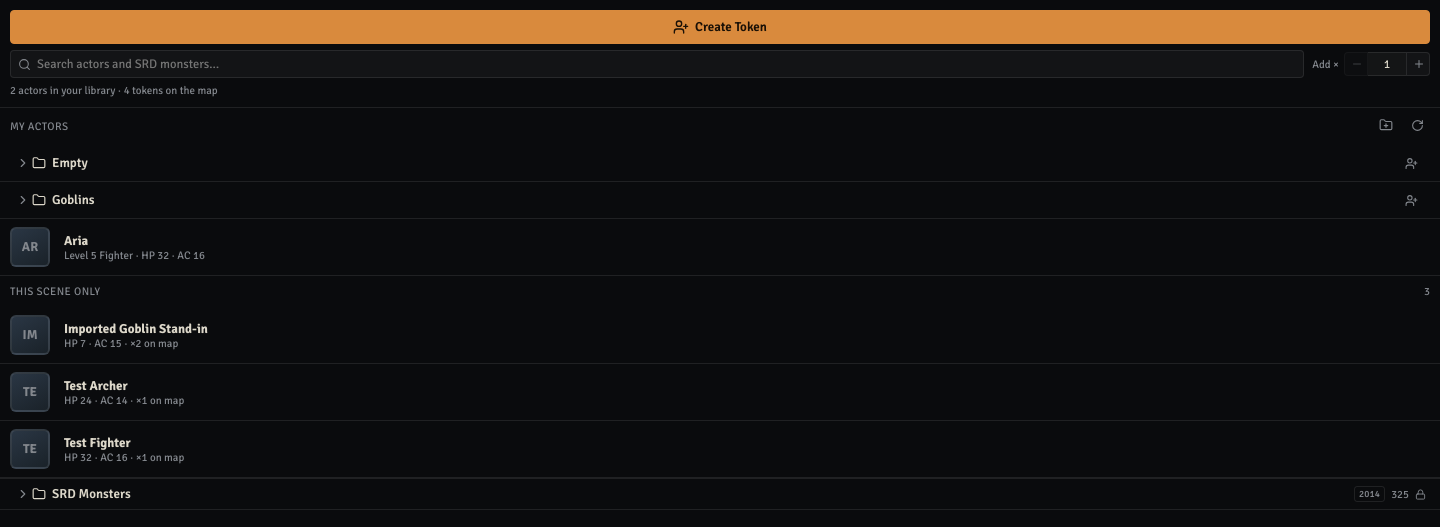
Test case: the search › narrows every group at once, opening the folders with matches and hiding the rest
Expected: the text "Goblin Boss" is not shown
Type "boss" into the search field labelled "Search actors" at (657, 64), box [10,50,1304,78]
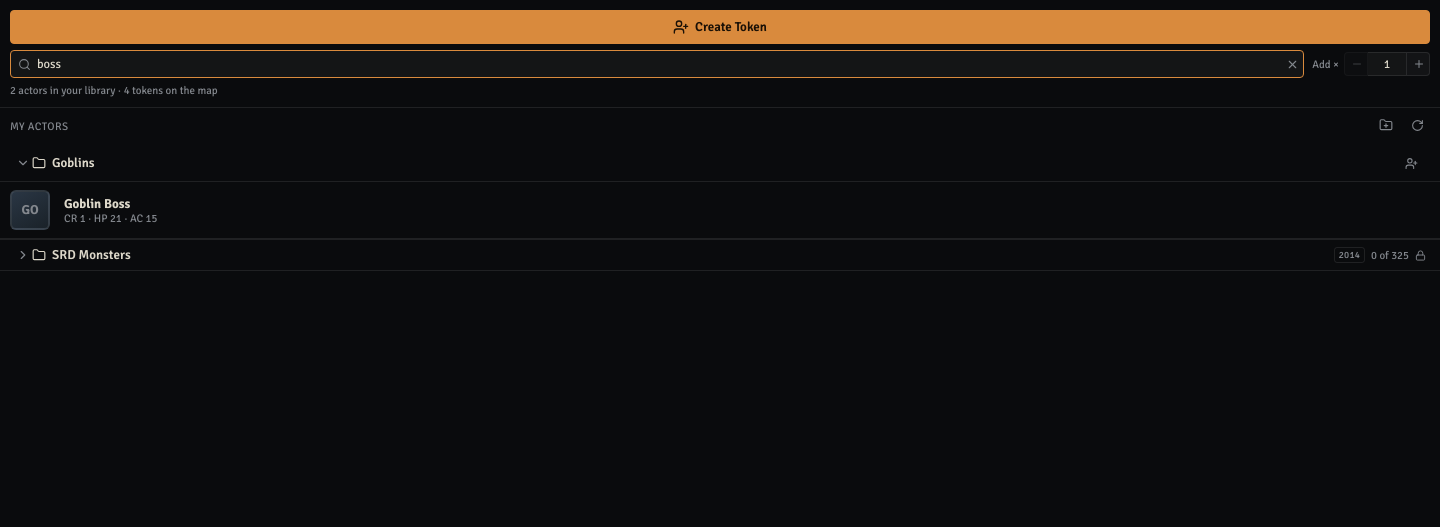
Expected: the text "Goblin Boss" is shown, [64,196,130,212]
Expected: the button "Aria" is gone
Expected: the text "Empty" is gone
